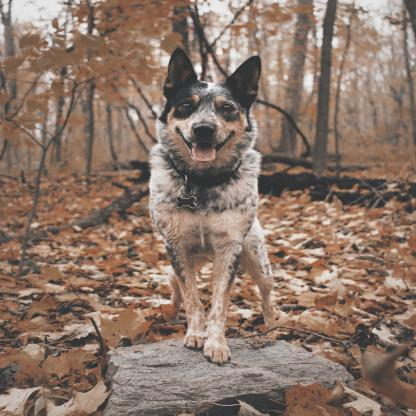german shepherd: (142, 44, 283, 362)
